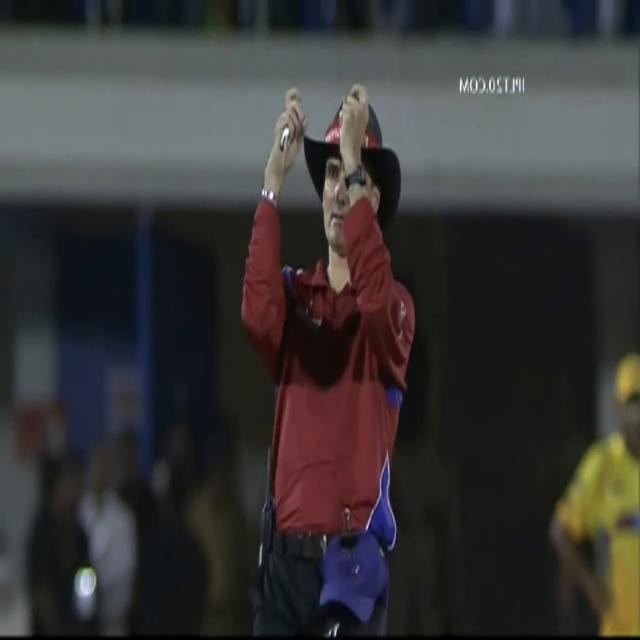Six: (222, 70, 426, 640)
